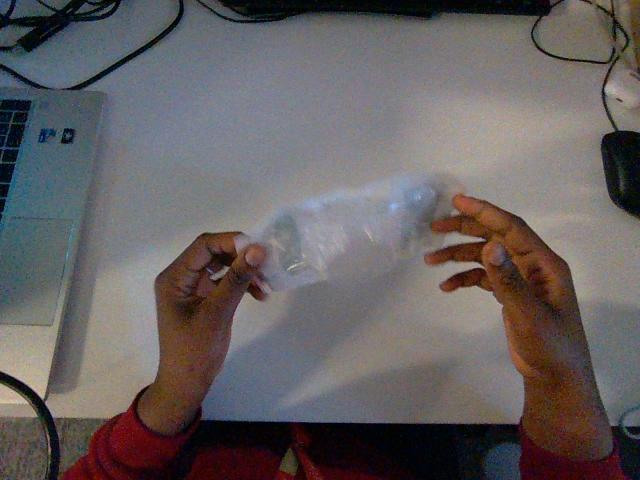gallipot: (235, 174, 462, 290)
